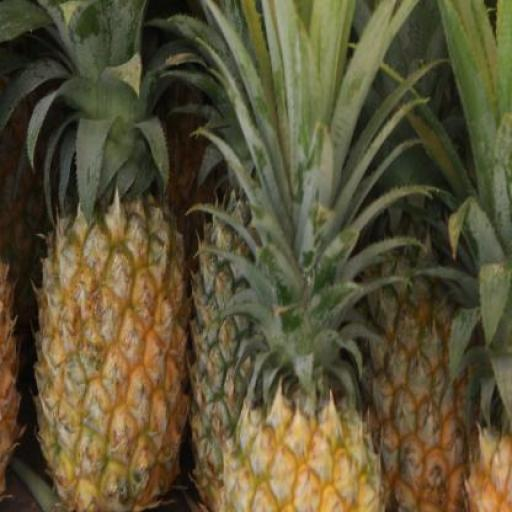------------------------------: (36, 201, 180, 508)
Pineapple - v8 v1: (222, 374, 382, 512)
